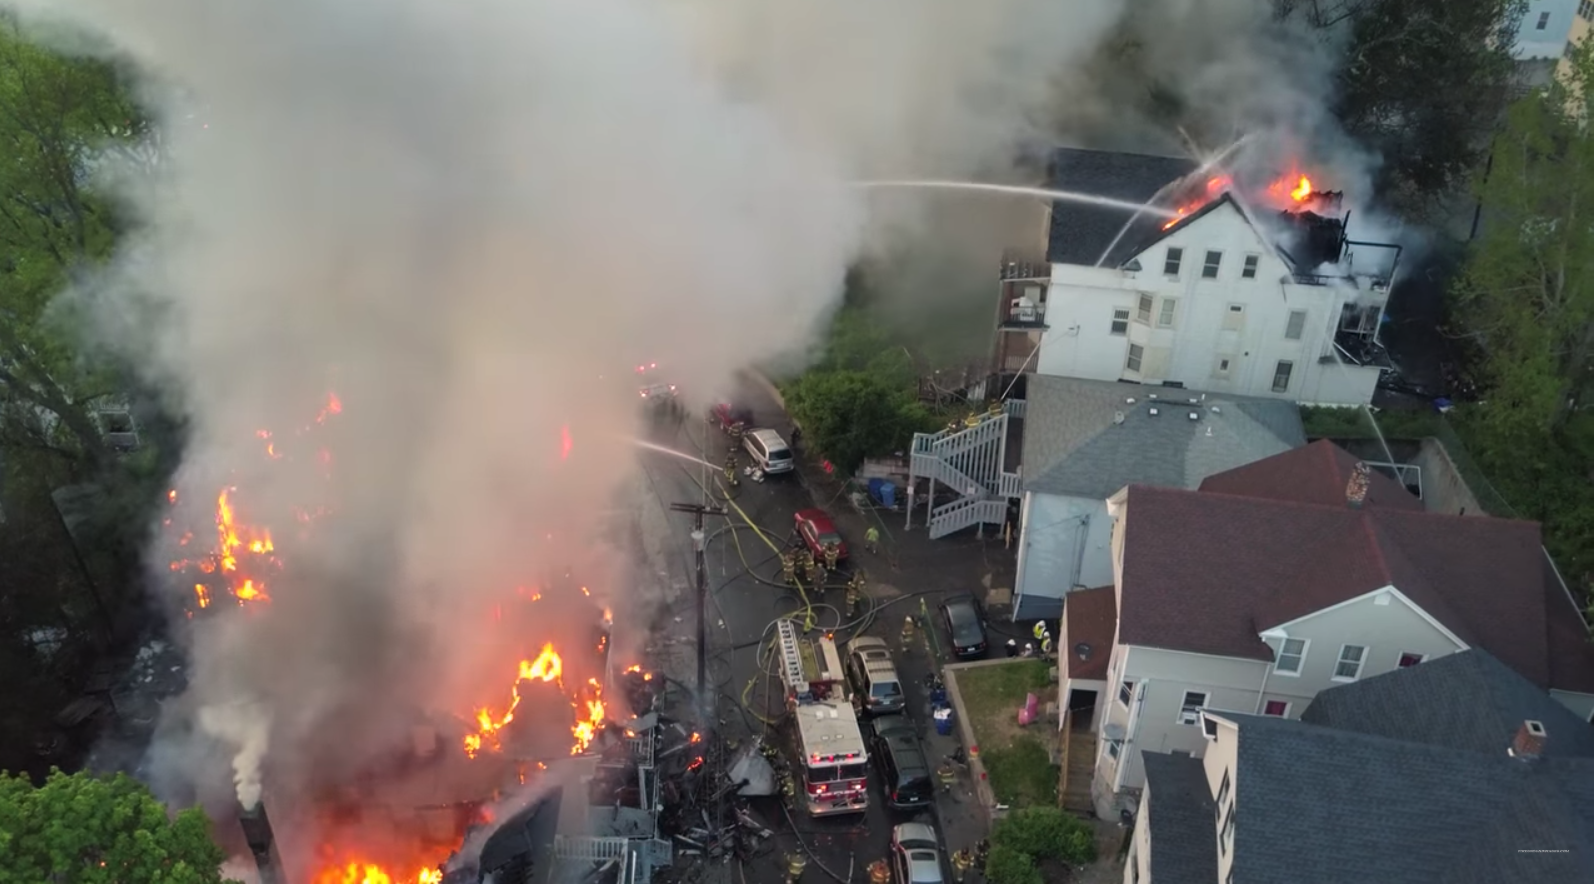fire: (353, 646, 618, 873), (166, 446, 297, 596), (1170, 148, 1340, 250)
